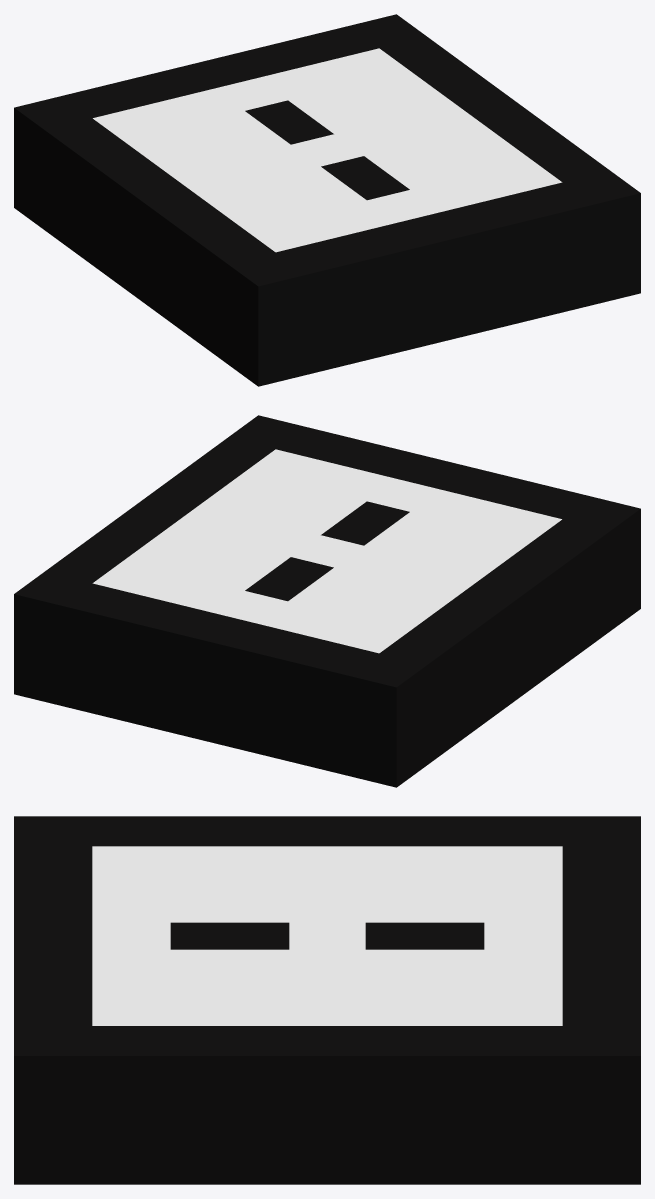
File: Font_Number_8_01.fbx
The picture shows the model from 3 angles, top to bottom: view 1: azimuth 30°, elevation 25°; view 2: azimuth 150°, elevation 25°; view 3: azimuth 270°, elevation 25°; orthographic projection. The views are drawn at different scales.
Parts seen in each view (by area): view 1: Font_Number_8_01; view 2: Font_Number_8_01; view 3: Font_Number_8_01.
Boxes of the visible parts, x1,y1,x2,y2 form: Font_Number_8_01: (14,14,640,386); Font_Number_8_01: (14,415,640,787); Font_Number_8_01: (14,816,640,1184).
Size of the model in its own units: 77.66 by 19.44 by 85.9.
